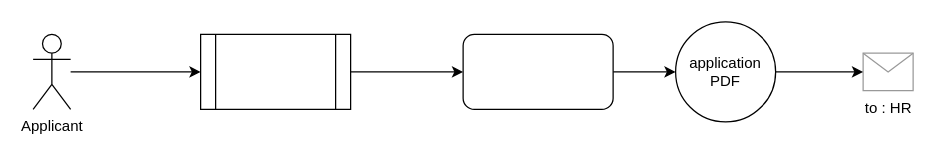
Image size: 935x158. Some labels were removed from this diagram. The box of each missing label's shape, as (x1, y1, x2, y2) in pixels:
Applicant Website: (199, 33, 351, 109)
Submit Application: (462, 33, 613, 109)
